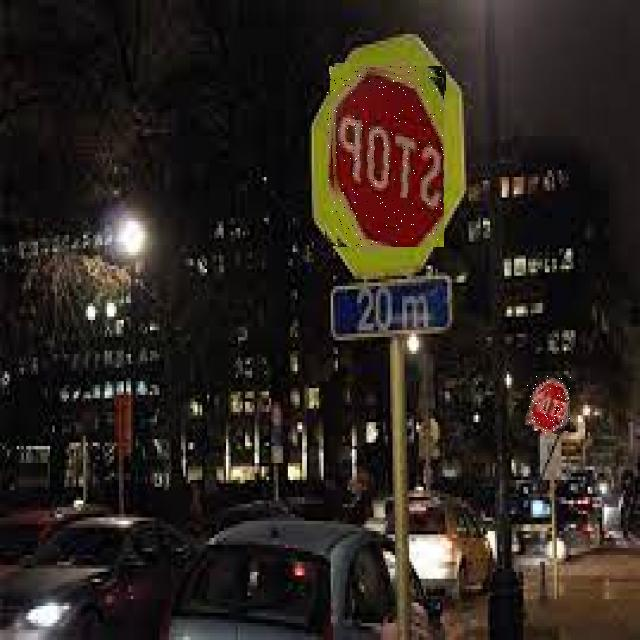stop: (327, 65, 444, 247), (527, 375, 571, 433)
